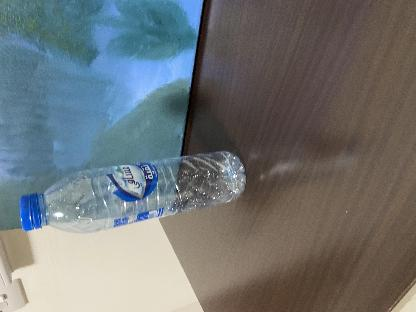Plastic Bottle: (19, 151, 246, 233)
